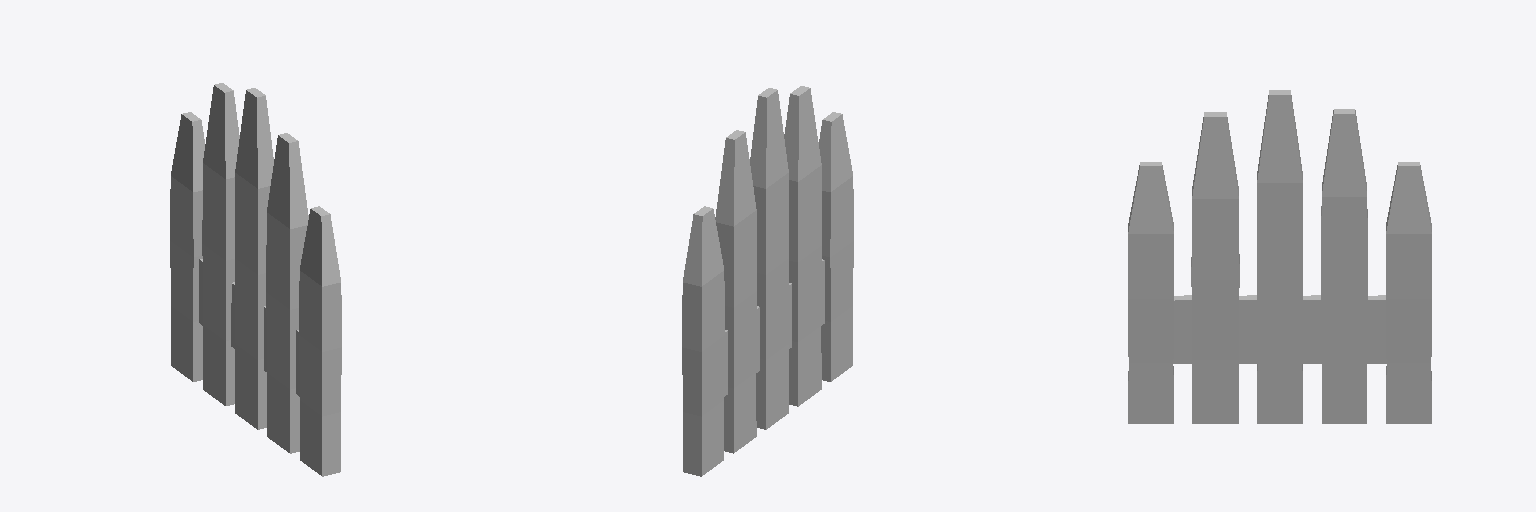
The model's file is gate2.obj.
3 views of the same model, side by side, from view 1: azimuth 30°, elevation 25°; view 2: azimuth 150°, elevation 25°; view 3: azimuth 270°, elevation 25° (orthographic).
Parts seen in each view (by area): view 1: Cube.020_Cube.060; view 2: Cube.020_Cube.060; view 3: Cube.020_Cube.060.
Part boxes in pixels (left/top/right/bottom): Cube.020_Cube.060: left=170, top=83, right=341, bottom=476; Cube.020_Cube.060: left=682, top=86, right=853, bottom=476; Cube.020_Cube.060: left=1128, top=90, right=1431, bottom=423.
Size of the model in its own units: 0.1788 by 2.8 by 2.36.